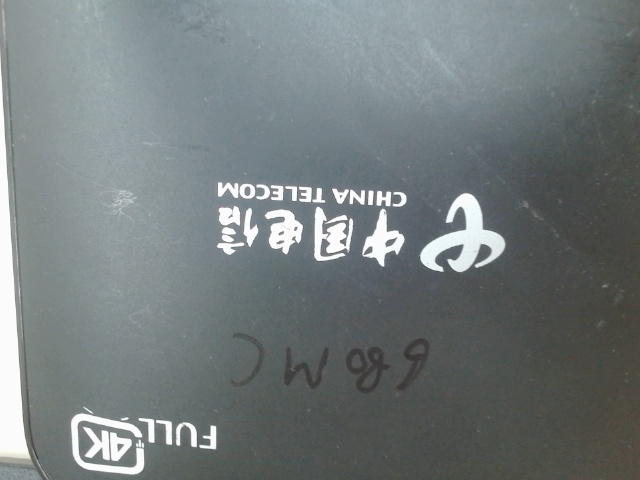AB_ChinaTelecom: (199, 164, 512, 285)
